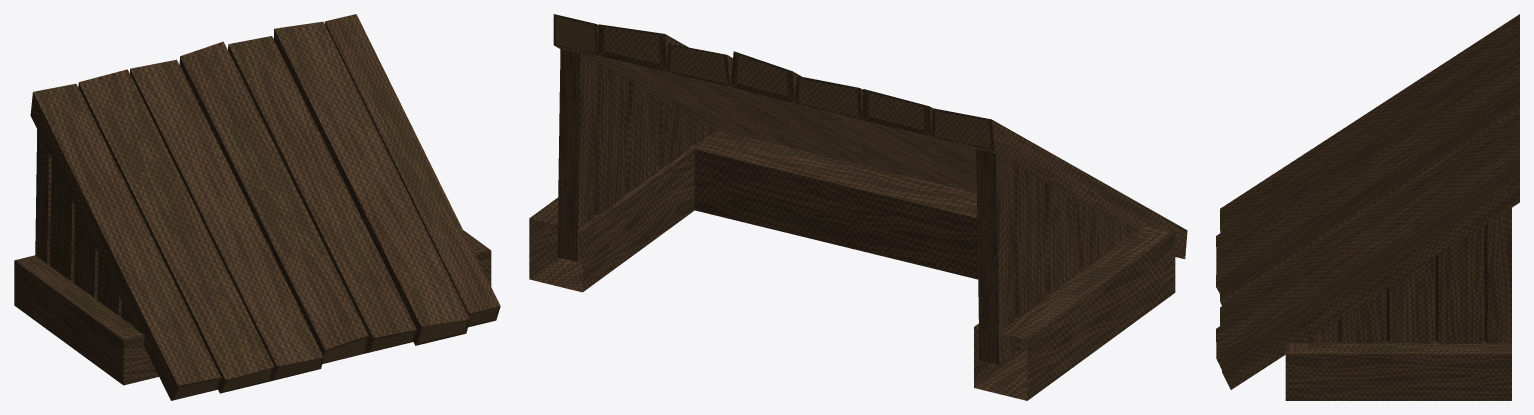
3 views of the same model, side by side, from view 1: azimuth 30°, elevation 25°; view 2: azimuth 150°, elevation 25°; view 3: azimuth 270°, elevation 25° (orthographic). The views are drawn at different scales.
Parts seen in each view (by area): view 1: Roof_Wooden_2x1; view 2: Roof_Wooden_2x1; view 3: Roof_Wooden_2x1.
Part boxes in pixels (<box>): Roof_Wooden_2x1: <box>14,14,500,400</box>; Roof_Wooden_2x1: <box>529,14,1187,400</box>; Roof_Wooden_2x1: <box>1216,14,1519,400</box>.
Size of the model in its own units: 2.26 by 1.25 by 1.56.
2 materials, 2 textured.
